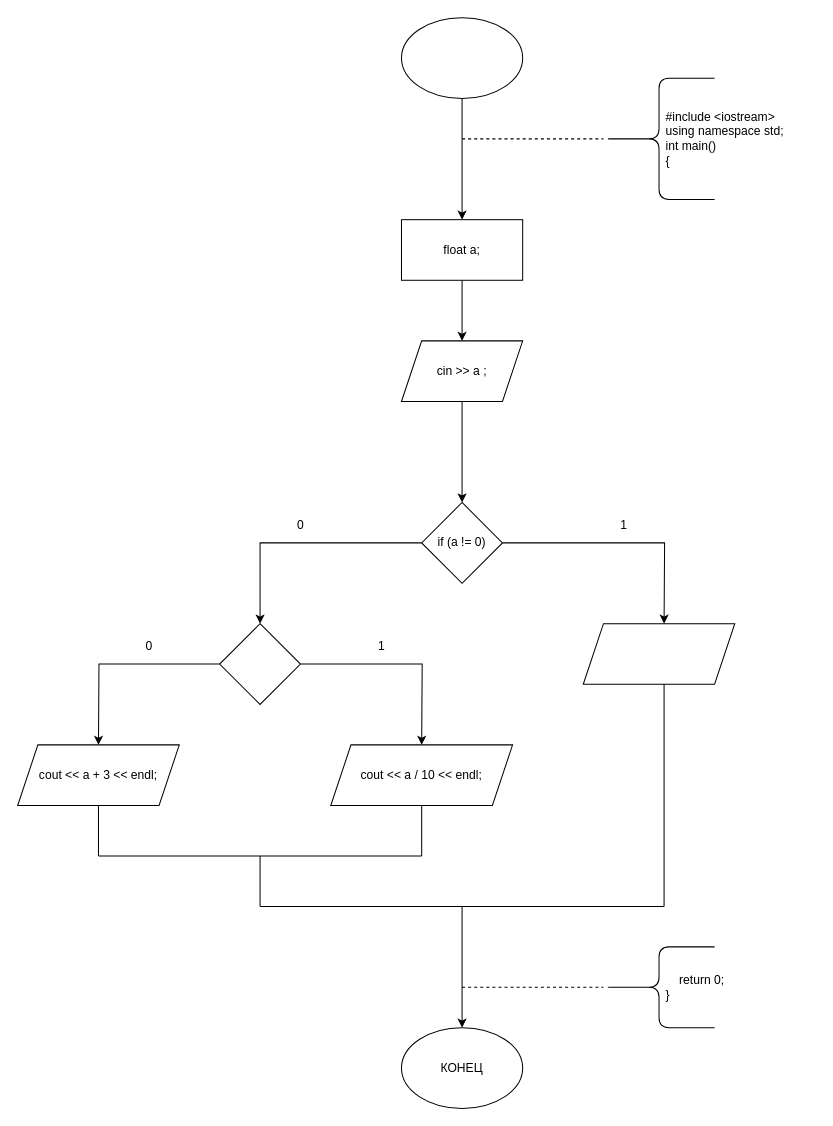
This 833x1126 diagram has some shape labels left out. Each missing label, with the box of its shape:
cout << a *3<< endl;: (582, 623, 735, 684)
if (a < 8): (219, 623, 300, 704)
НАЧАЛО: (400, 17, 523, 98)
